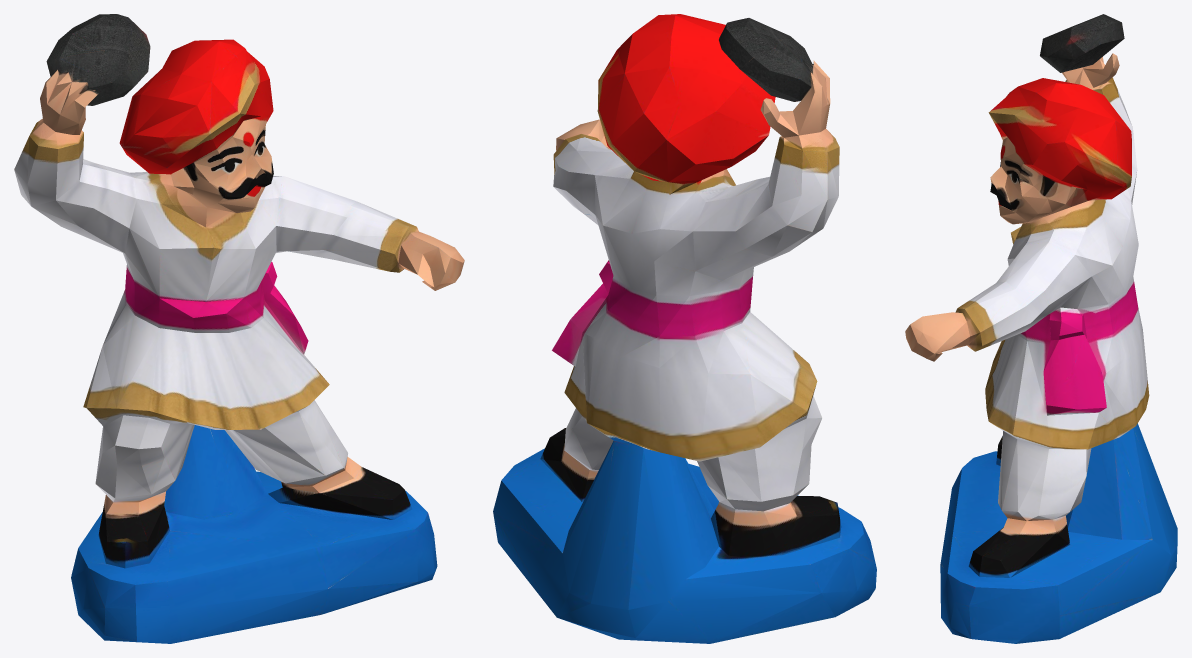
Rendered from Rock Thrower.glb.
3 renders of one model, left to right at view 1: azimuth 30°, elevation 25°; view 2: azimuth 150°, elevation 25°; view 3: azimuth 270°, elevation 25°, orthographic. The views are drawn at different scales.
Parts seen in each view (by area): view 1: mesh_000; view 2: mesh_000; view 3: mesh_000.
Part boxes in pixels (left/top/right/bottom): mesh_000: left=14, top=14, right=464, bottom=643; mesh_000: left=493, top=14, right=876, bottom=643; mesh_000: left=905, top=14, right=1177, bottom=643.
Bounding box in the file's own units: 0.6172 × 0.9521 × 0.458.
1 material, 1 textured.
